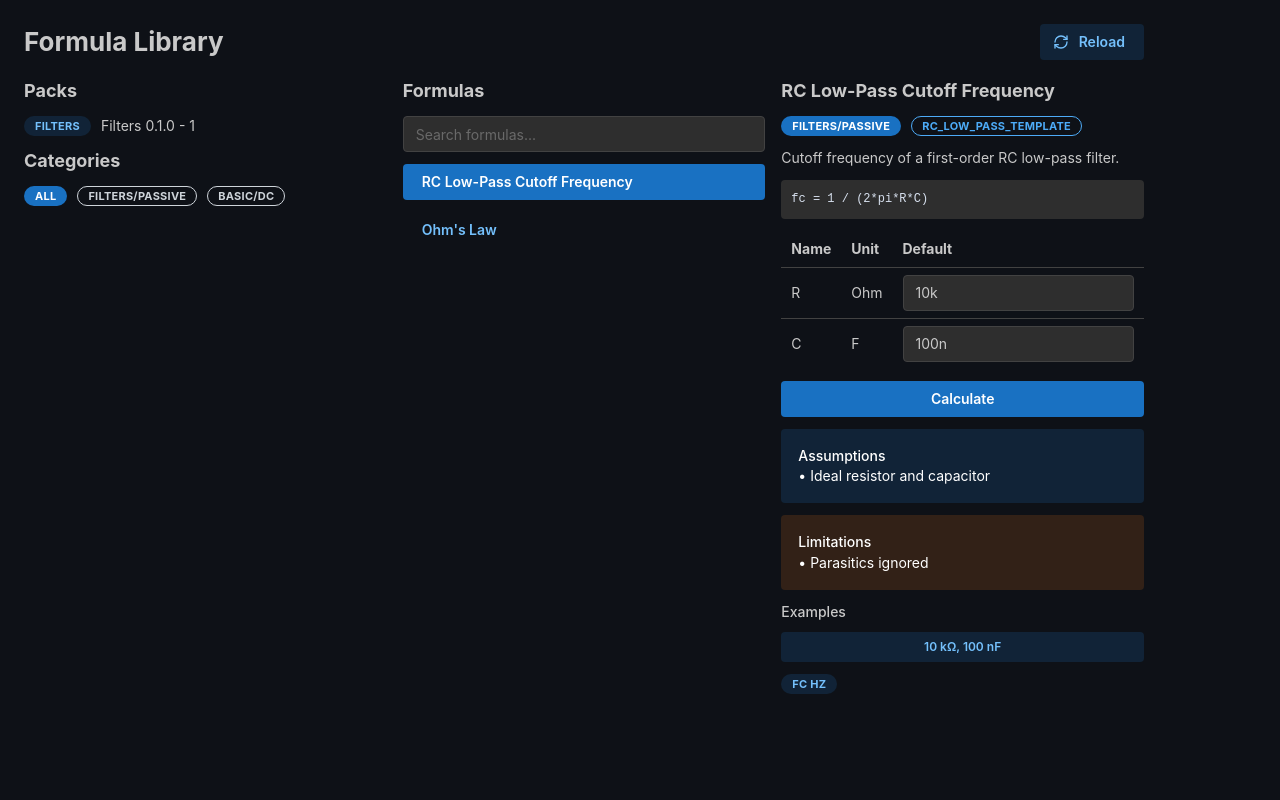
Test: FormulaLibraryScreen › switches between formulas and updates details
The width and height of the screenshot is (1280, 800).
Check: the button "Ohm's Law" is shown, box top-left (422, 221), bottom-right (497, 238)
Click the button "Ohm's Law" at {"x": 459, "y": 230}, box top-left (403, 212), bottom-right (765, 248)
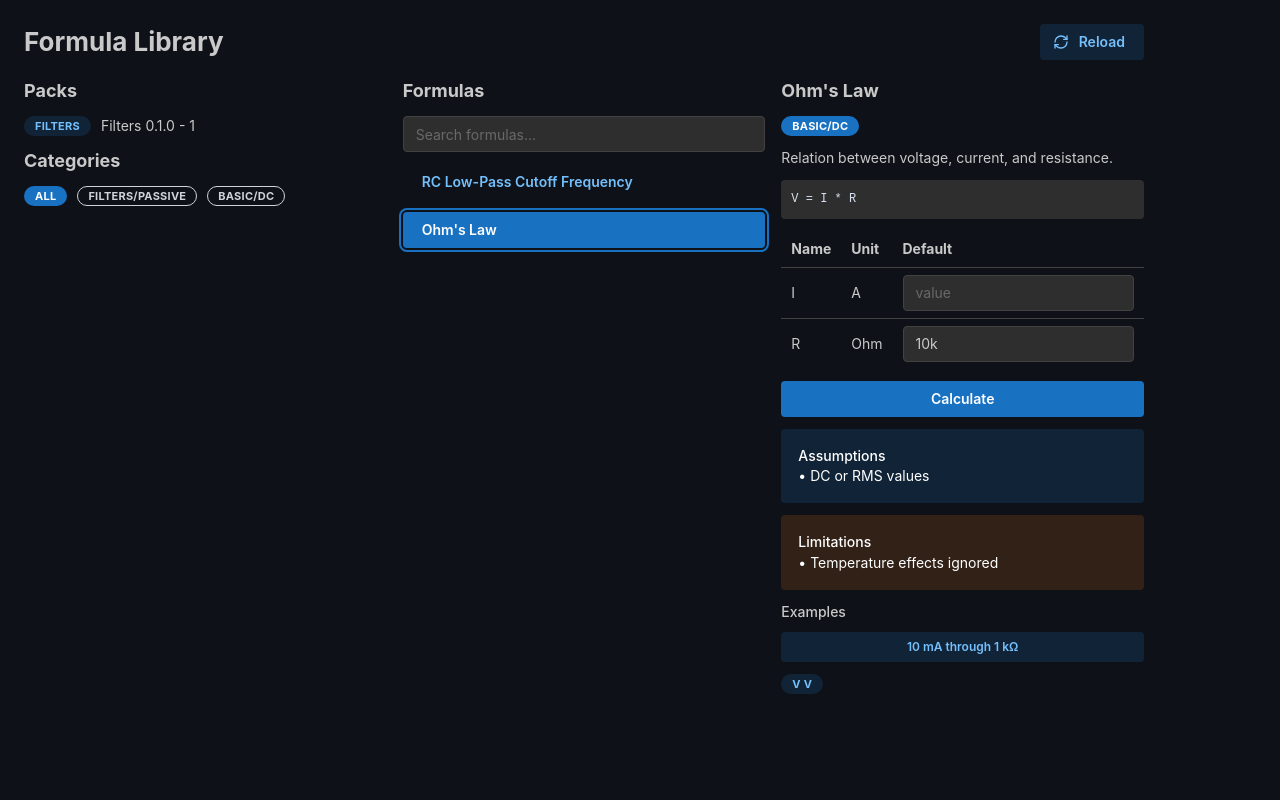
Check: the field named "R value" is shown, box top-left (902, 326), bottom-right (1134, 362)
Check: the text "Relation between voltage, current, and resistance." is shown, box top-left (781, 148), bottom-right (1144, 168)
Check: the field named "I value" is shown, box top-left (902, 275), bottom-right (1134, 311)
